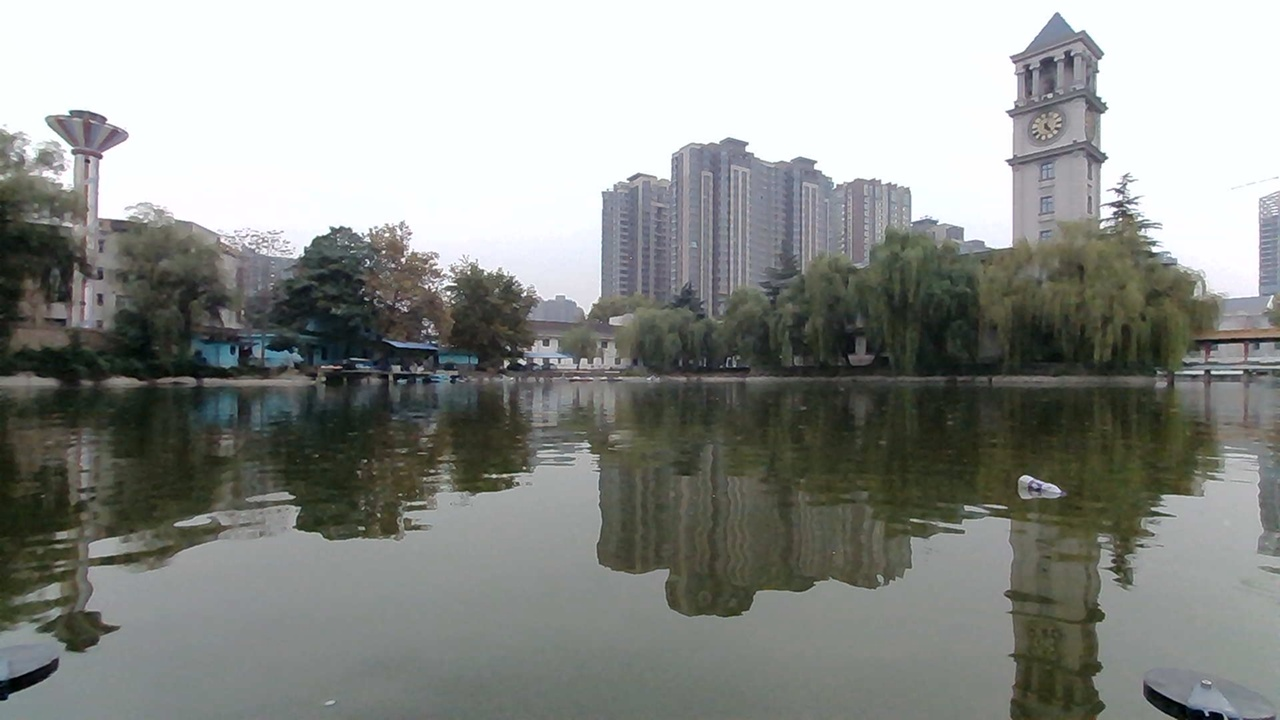bottle: (1019, 473, 1058, 503)
